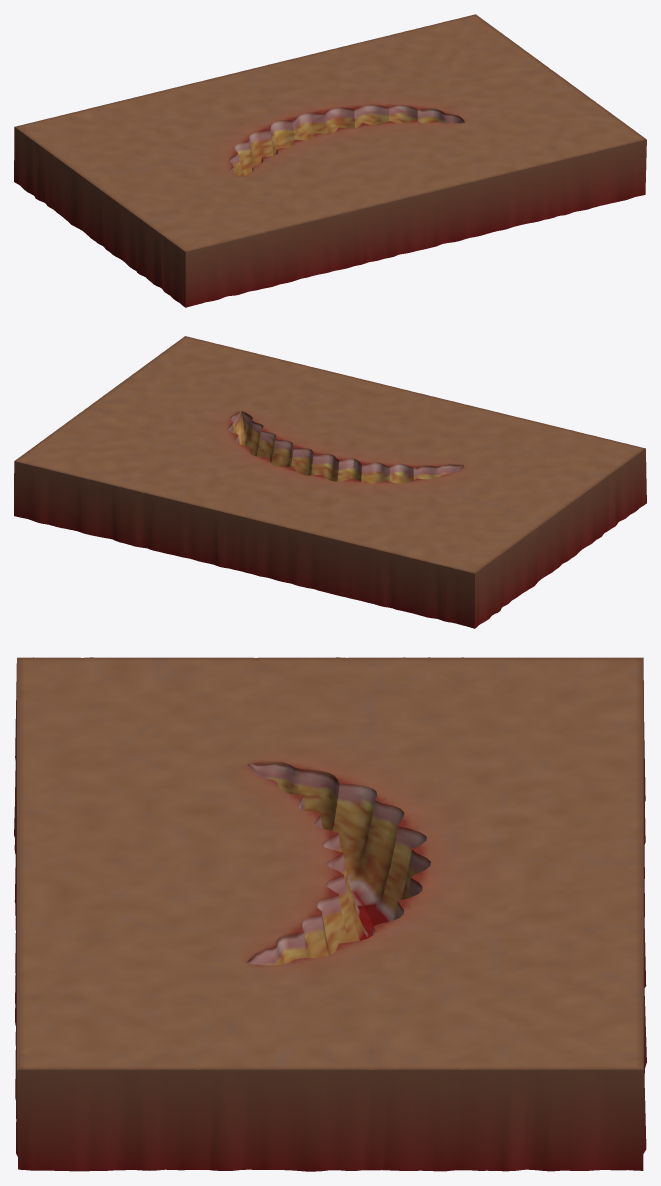
File: pad_requin.glb
The picture shows the model from 3 angles, top to bottom: view 1: azimuth 30°, elevation 25°; view 2: azimuth 150°, elevation 25°; view 3: azimuth 270°, elevation 25°; orthographic projection. The views are drawn at different scales.
Visible parts, largest first — view 1: pad_requin; view 2: pad_requin; view 3: pad_requin.
Boxes of the visible parts, bbox=[...] form: pad_requin: bbox=[14, 14, 646, 307]; pad_requin: bbox=[14, 336, 646, 628]; pad_requin: bbox=[14, 657, 646, 1171].
Size of the model in its own units: 14.08 by 1.61 by 9.09.
